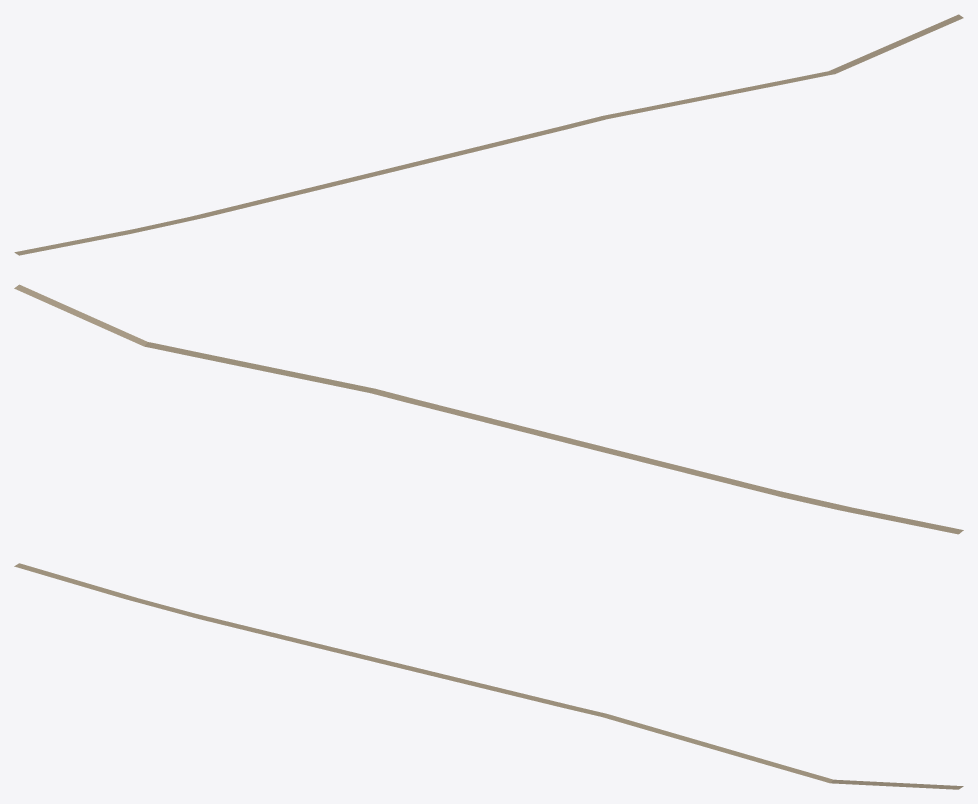
The model's file is farm_17_13_track.glb.
3 renders of one model, top to bottom at view 1: azimuth 30°, elevation 25°; view 2: azimuth 150°, elevation 25°; view 3: azimuth 330°, elevation 25°, orthographic.
Visible parts, largest first — view 1: geometry_0; view 2: geometry_0; view 3: geometry_0.
Boxes of the visible parts, x1,y1,x2,y2 form: geometry_0: (14, 14, 963, 255); geometry_0: (14, 284, 963, 534); geometry_0: (14, 563, 963, 789).
Size of the model in its own units: 343 by 9.01 by 5.85.
